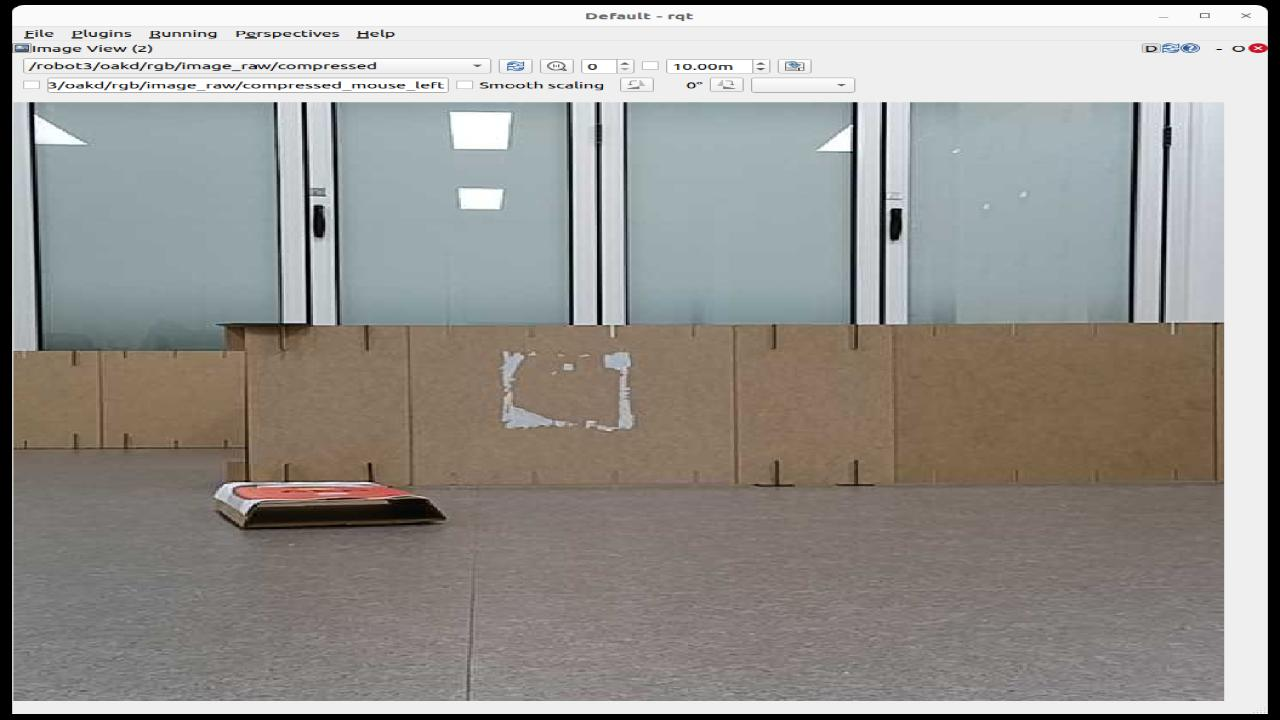AED: (233, 483, 403, 500)
